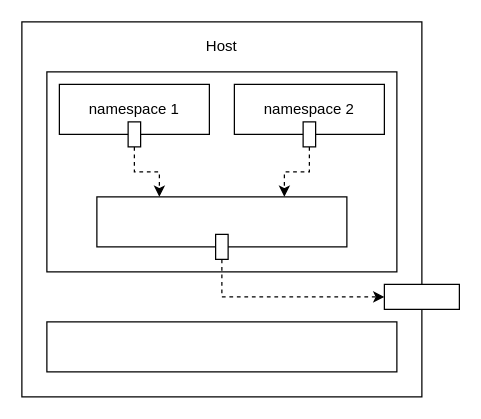
The diagram is 481 pixels wide and 419 high, and some of its shapes have lost their labels. Each missing label, with the centre of its shape:
"Configure host to act as Gateway, NAT, etc for the namespaces" belongs at point 221,346.
"virtual switch" belongs at point 221,221.
